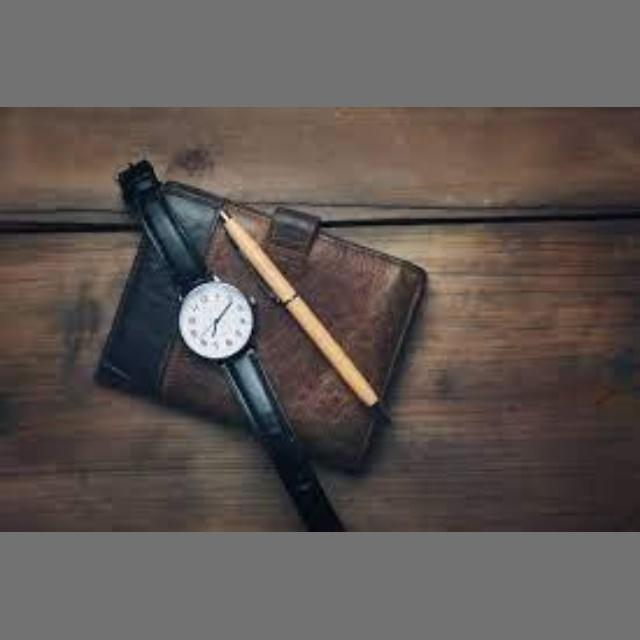Wallet: (40, 220, 516, 452)
